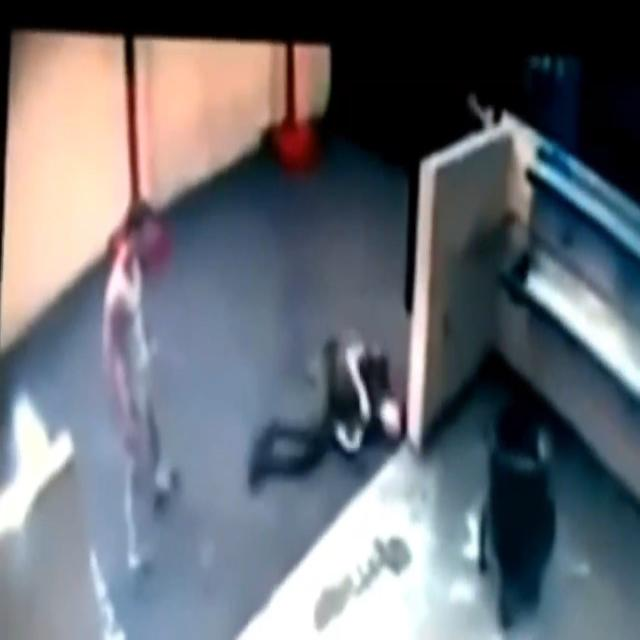fight: (124, 208, 405, 490)
